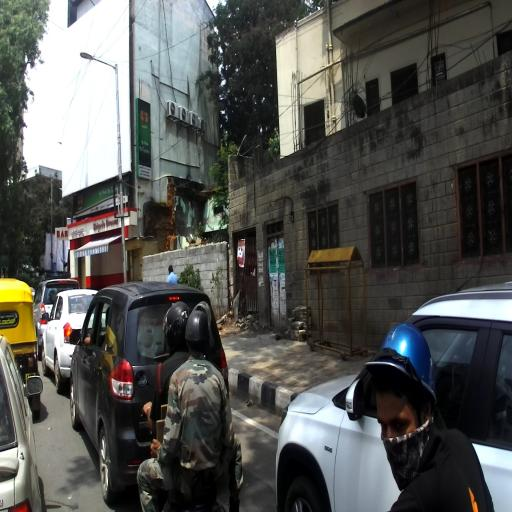street_light_0: (80, 52, 119, 70)
